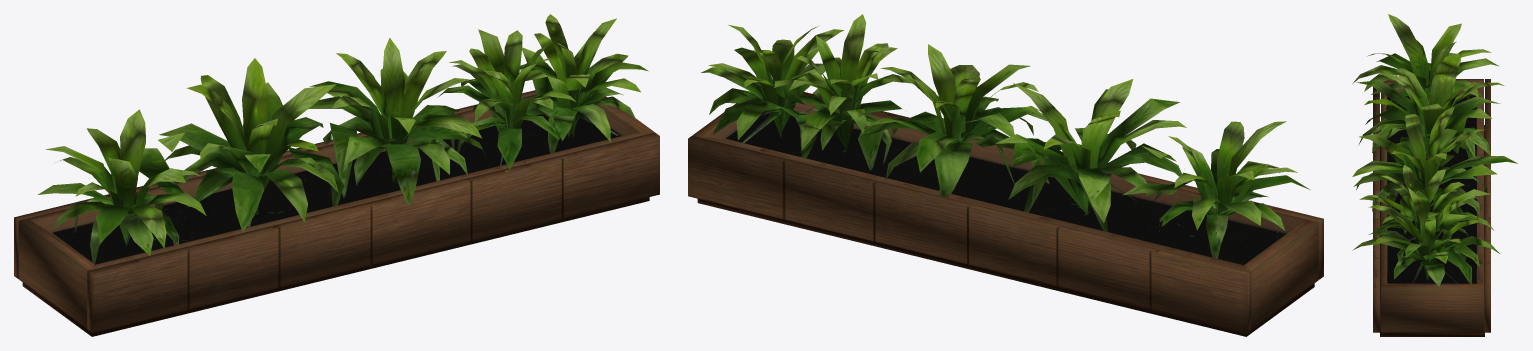
Rendered from ENV_plant_B_v001.fbx.
3 renders of one model, left to right at view 1: azimuth 30°, elevation 25°; view 2: azimuth 150°, elevation 25°; view 3: azimuth 270°, elevation 25°, orthographic. The views are drawn at different scales.
Visible parts, largest first — view 1: tripo_node_a9e04e7f-c5ba-4447-a867-1405d3023330; view 2: tripo_node_a9e04e7f-c5ba-4447-a867-1405d3023330; view 3: tripo_node_a9e04e7f-c5ba-4447-a867-1405d3023330.
Boxes of the visible parts, <box> form: tripo_node_a9e04e7f-c5ba-4447-a867-1405d3023330: <box>14,14,659,336</box>; tripo_node_a9e04e7f-c5ba-4447-a867-1405d3023330: <box>688,14,1323,336</box>; tripo_node_a9e04e7f-c5ba-4447-a867-1405d3023330: <box>1352,14,1517,336</box>.
Bounding box in the file's own units: 176 × 50.77 × 57.68.
Materials: 1 (1 with a texture image).
